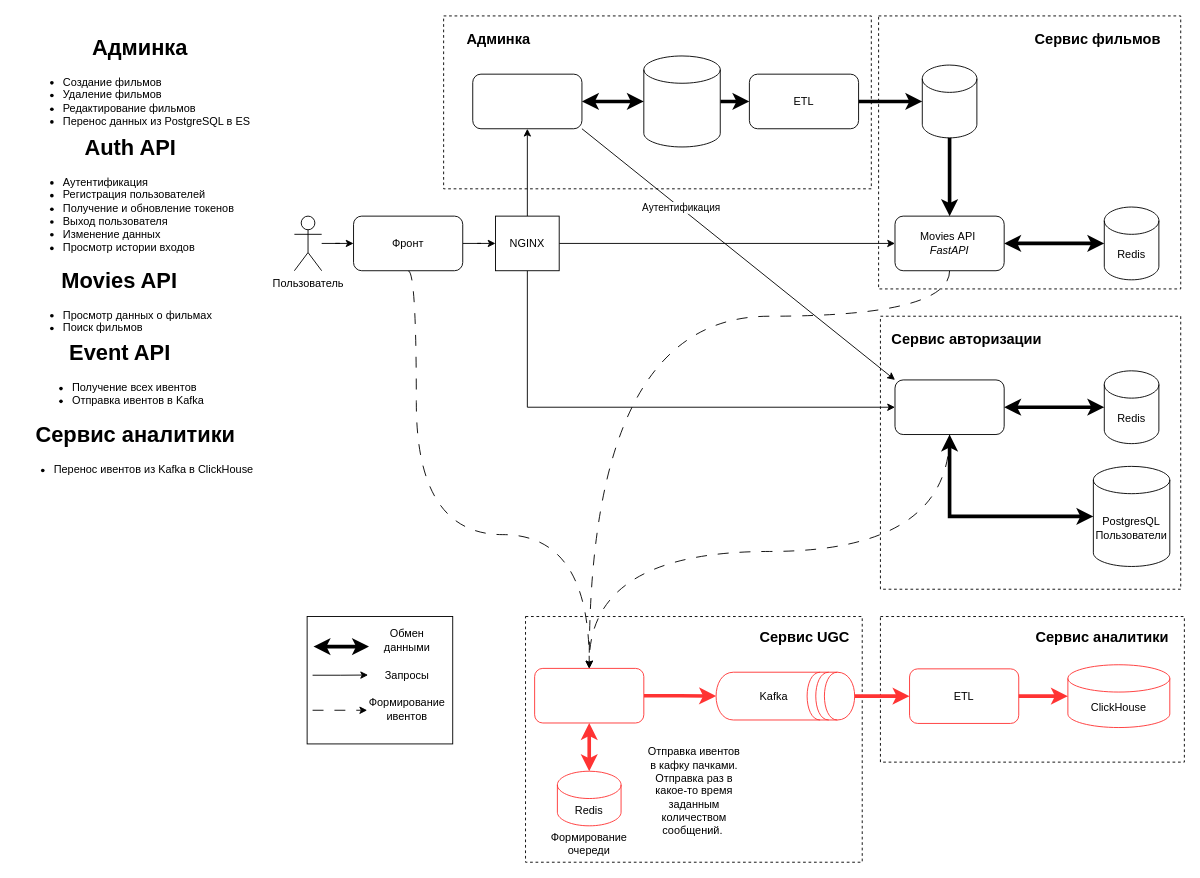
Some shapes in this 1200 by 878 pixel diagram are drawn without their labels. Here are the shapes that lost their labels. From the top down, the centre of each, then its label:
point (527, 101): Админка Django
point (681, 101): PostgresQL Фильмы
point (949, 101): ES
point (949, 407): Auth API FastAPI
point (589, 695): Event API FastAPI
